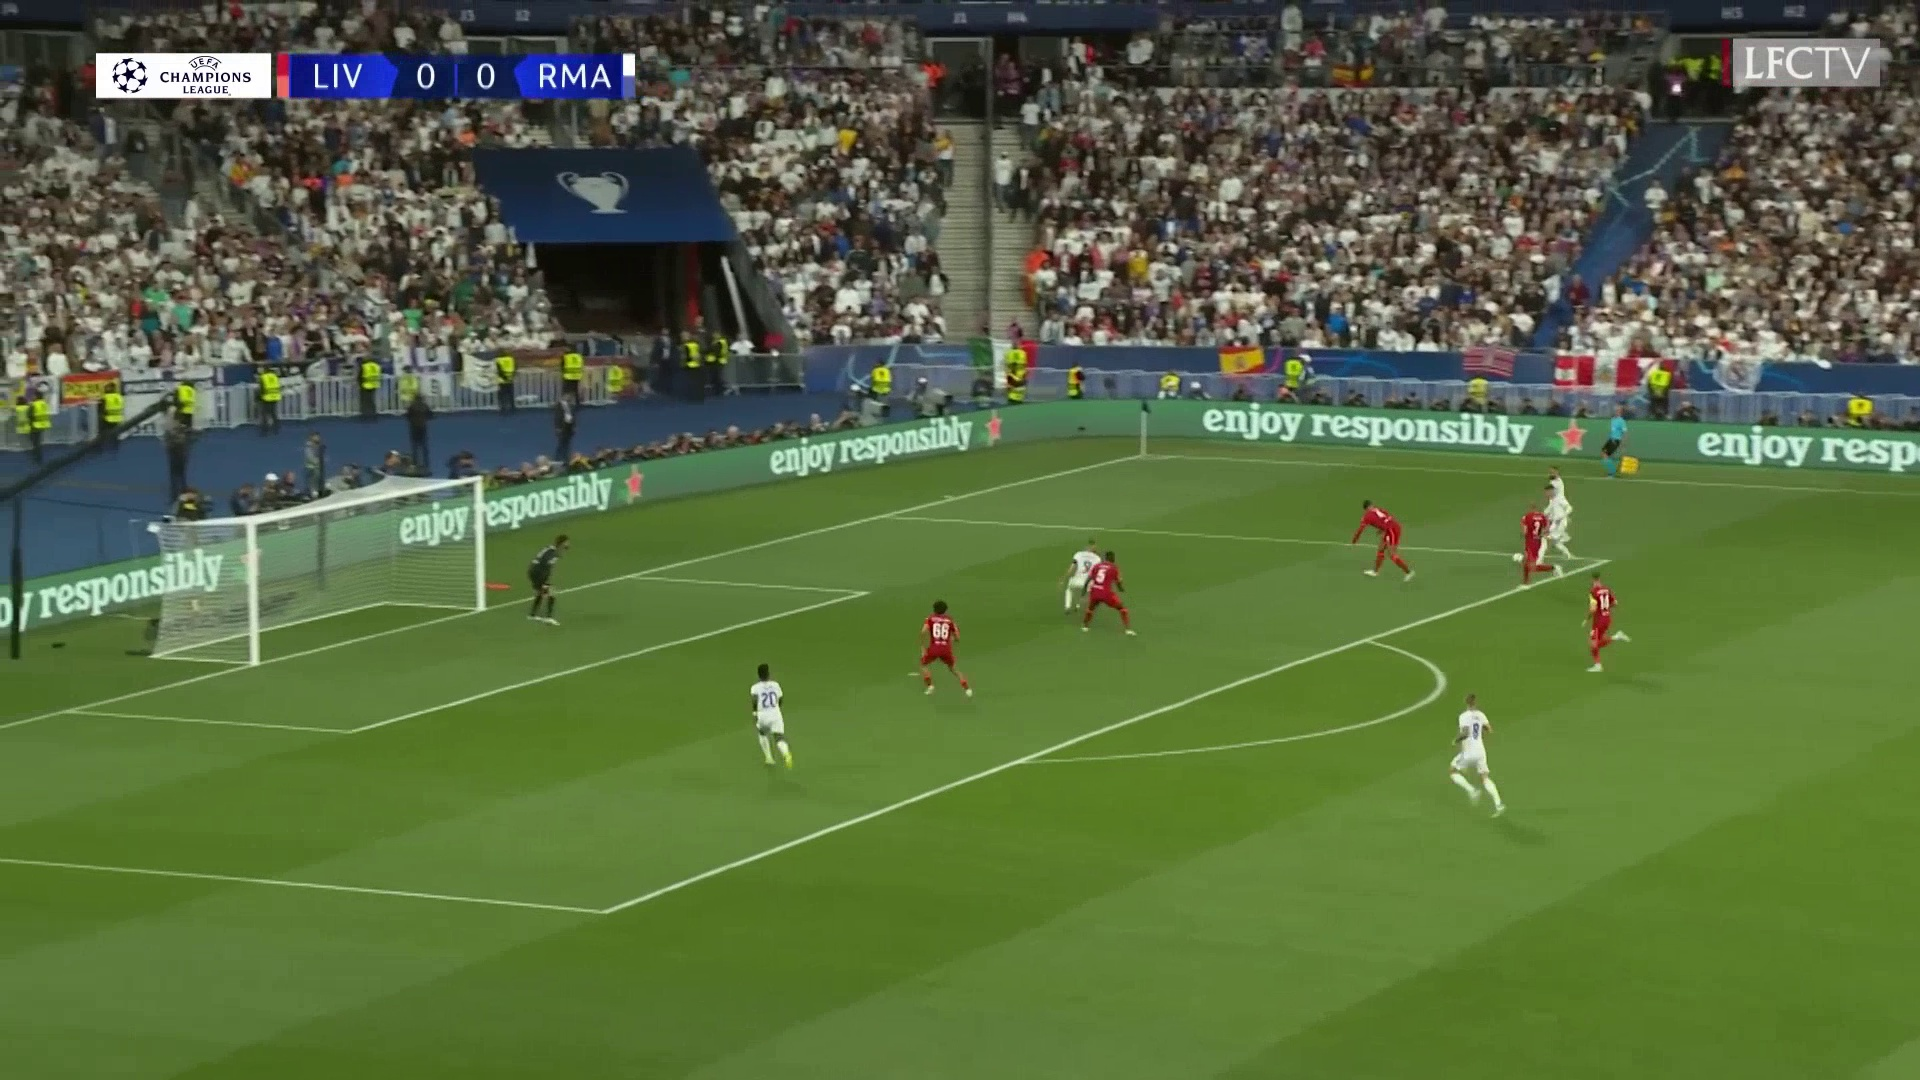ball: (1510, 547, 1526, 563)
player 1: (1537, 483, 1567, 563)
player 12: (524, 530, 580, 631)
player 13: (1340, 498, 1426, 586)
player 14: (912, 595, 972, 703)
player 15: (1519, 515, 1537, 586)
player 16: (1084, 541, 1133, 642)
player 17: (1569, 565, 1638, 674)
player 2: (1543, 453, 1582, 500)
player 3: (737, 659, 808, 778)
player 4: (1041, 530, 1099, 619)
player 5: (1450, 679, 1511, 827)
